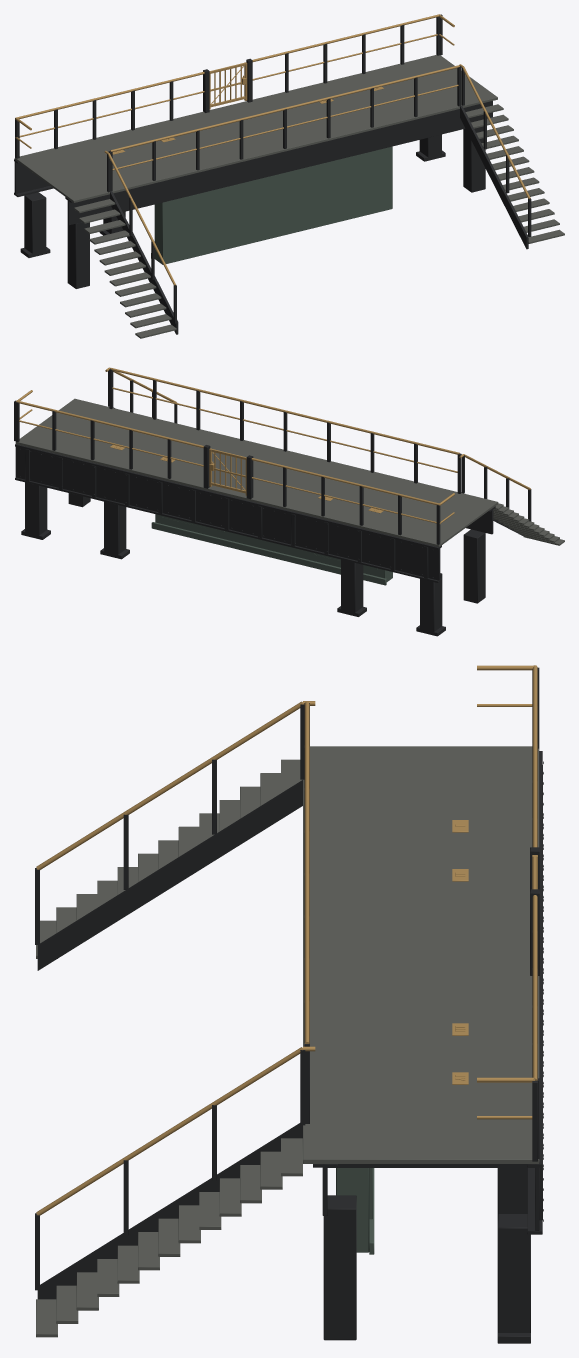
File: bridge.glb
3 views of the same model, one above another, from view 1: azimuth 30°, elevation 25°; view 2: azimuth 150°, elevation 25°; view 3: azimuth 270°, elevation 25° (orthographic). The views are drawn at different scales.
Visible parts, largest first — view 1: bridge_deck, bridge_frame, bridge_paint, bridge_rail, catwalk_gate; view 2: bridge_frame, bridge_deck, bridge_rail, bridge_paint, catwalk_gate; view 3: bridge_deck, bridge_frame, bridge_rail, bridge_paint.
Boxes of the visible parts, box(x1,y1,x2,y2) form: bridge_deck: box(14, 55, 564, 338); bridge_frame: box(14, 14, 531, 334); bridge_paint: box(151, 146, 392, 264); bridge_rail: box(15, 14, 530, 285); catwalk_gate: box(209, 62, 247, 109); bridge_frame: box(14, 368, 531, 636); bridge_deck: box(15, 398, 564, 546); bridge_rail: box(16, 367, 530, 523); bridge_paint: box(151, 514, 392, 585); catwalk_gate: box(209, 448, 246, 495); bridge_deck: box(36, 746, 539, 1337); bridge_frame: box(35, 667, 543, 1343); bridge_rail: box(36, 665, 537, 1215); bridge_paint: box(336, 1168, 374, 1254).
Bounding box in the file's own units: 11.87 × 3.6 × 6.14.
